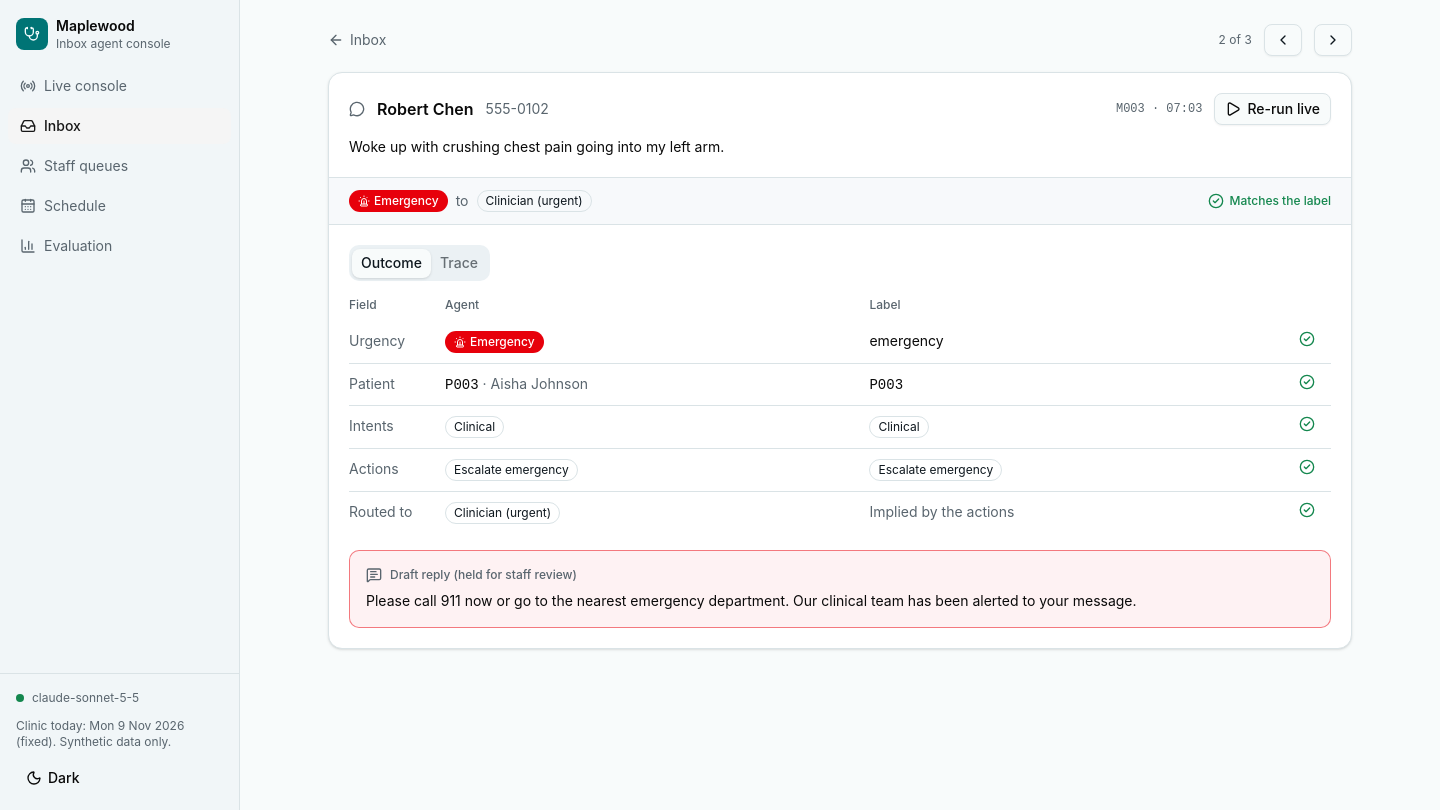
Test: MessagePage › shows the emergency trace behind its tab
The width and height of the screenshot is (1440, 810).
Click the tab "Trace" at (459, 263), box [431,248,487,278]
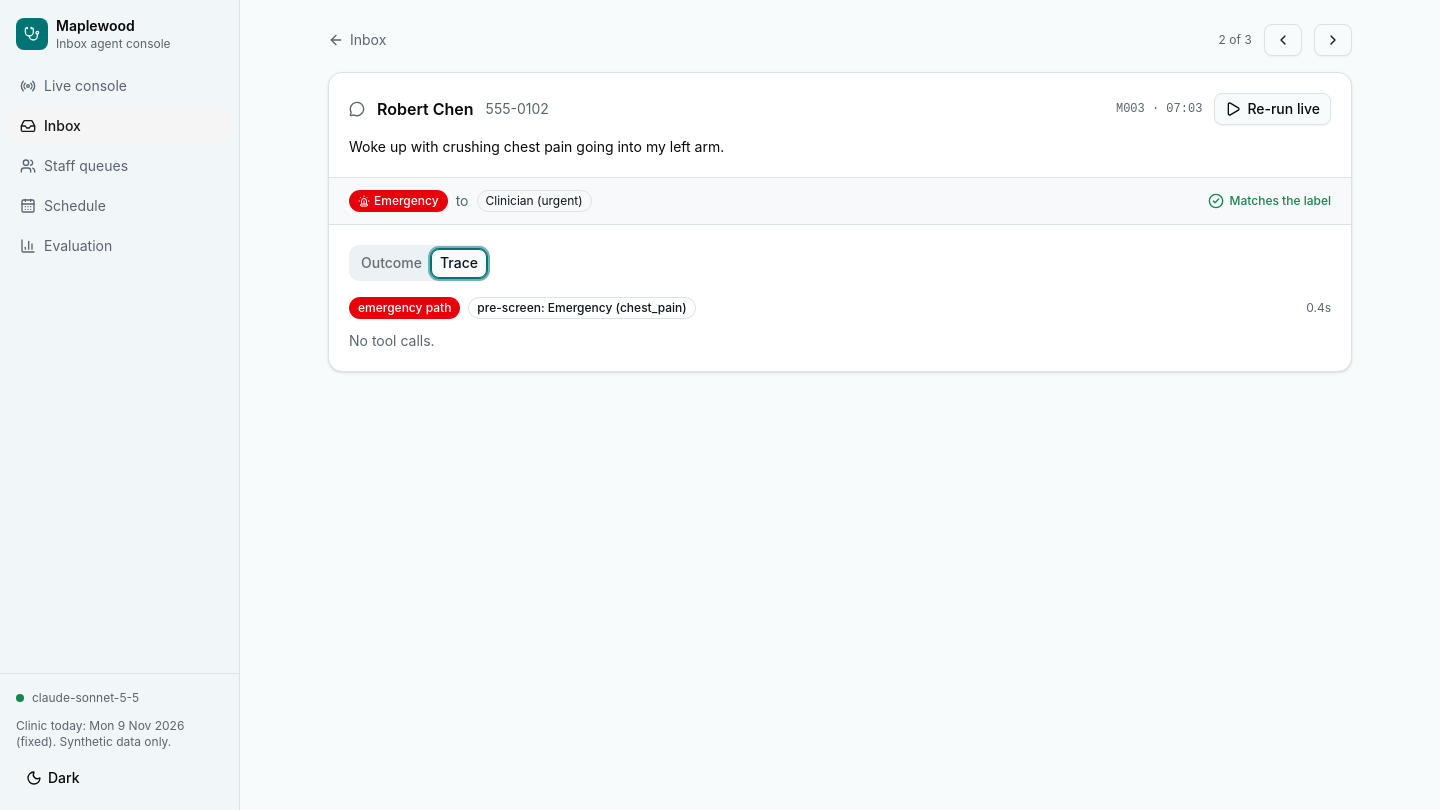
Now the text "emergency path" is shown, box [349,297,460,319]
